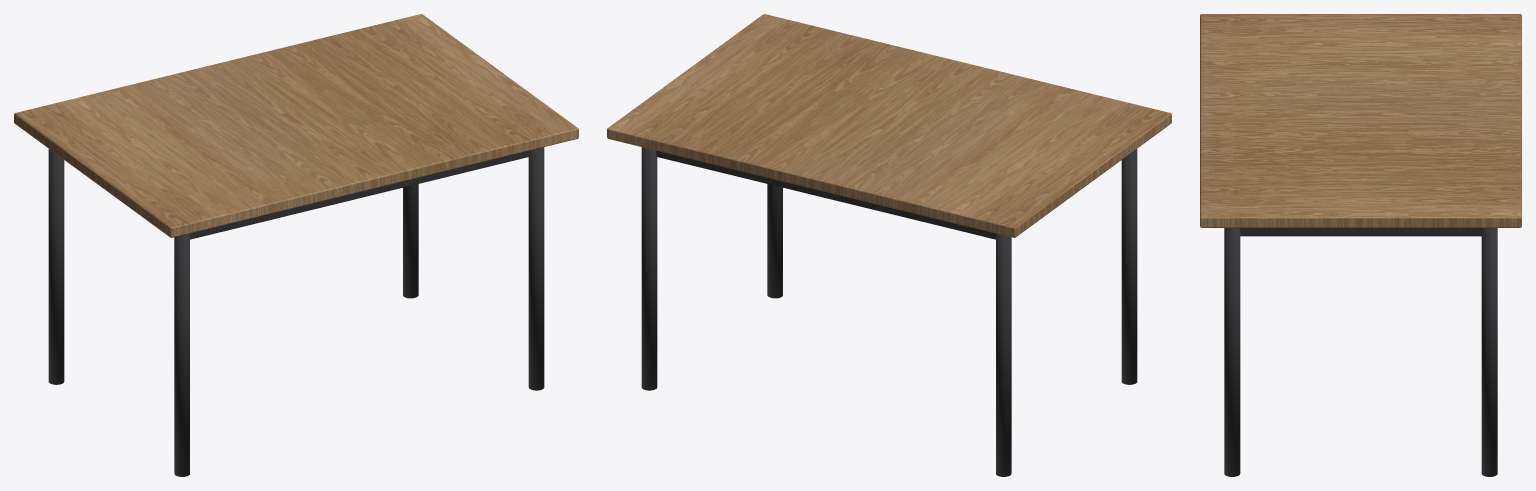
Rendered from kitchen_table.glb.
The picture shows the model from 3 angles, left to right: view 1: azimuth 30°, elevation 25°; view 2: azimuth 150°, elevation 25°; view 3: azimuth 270°, elevation 25°; orthographic projection. The views are drawn at different scales.
Parts seen in each view (by area): view 1: Cube, Cylinder.002, Cylinder.001, Cylinder, Cube.001, Cylinder.003; view 2: Cube, Cylinder.003, Cylinder, Cylinder.001, Cube.001, Cylinder.002; view 3: Cube, Cylinder.002, Cylinder.003, Cube.001.
Part boxes in pixels (bbox=[...]): Cube: bbox=[14, 14, 578, 237]; Cylinder.002: bbox=[528, 147, 544, 390]; Cylinder.001: bbox=[48, 149, 64, 384]; Cylinder: bbox=[174, 233, 189, 476]; Cube.001: bbox=[190, 150, 529, 239]; Cylinder.003: bbox=[403, 184, 418, 298]; Cube: bbox=[607, 14, 1171, 237]; Cylinder.003: bbox=[641, 147, 657, 390]; Cylinder: bbox=[1121, 149, 1137, 384]; Cylinder.001: bbox=[996, 233, 1011, 476]; Cube.001: bbox=[656, 150, 995, 239]; Cylinder.002: bbox=[767, 184, 782, 298]; Cube: bbox=[1200, 14, 1521, 227]; Cylinder.002: bbox=[1224, 228, 1240, 476]; Cylinder.003: bbox=[1481, 228, 1497, 476]; Cube.001: bbox=[1240, 228, 1481, 236].
Bounding box in the file's own units: 1.2 × 0.74 × 0.8.
2 materials, 1 textured.
